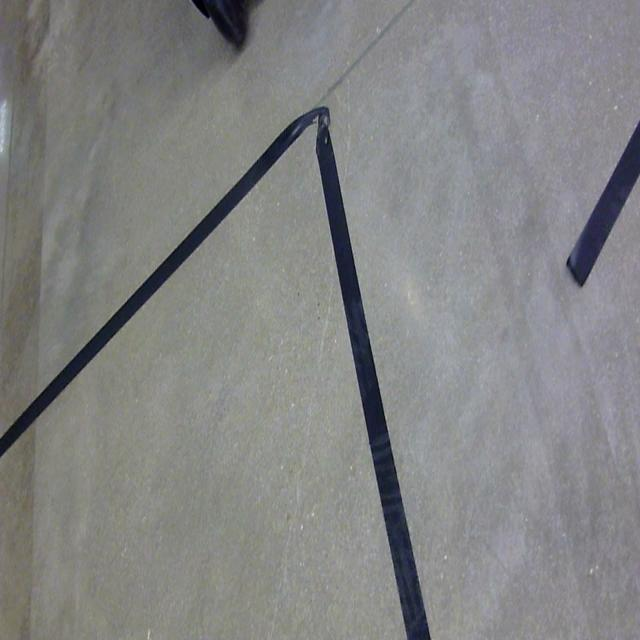tape: (0, 87, 451, 640), (546, 89, 640, 325)
